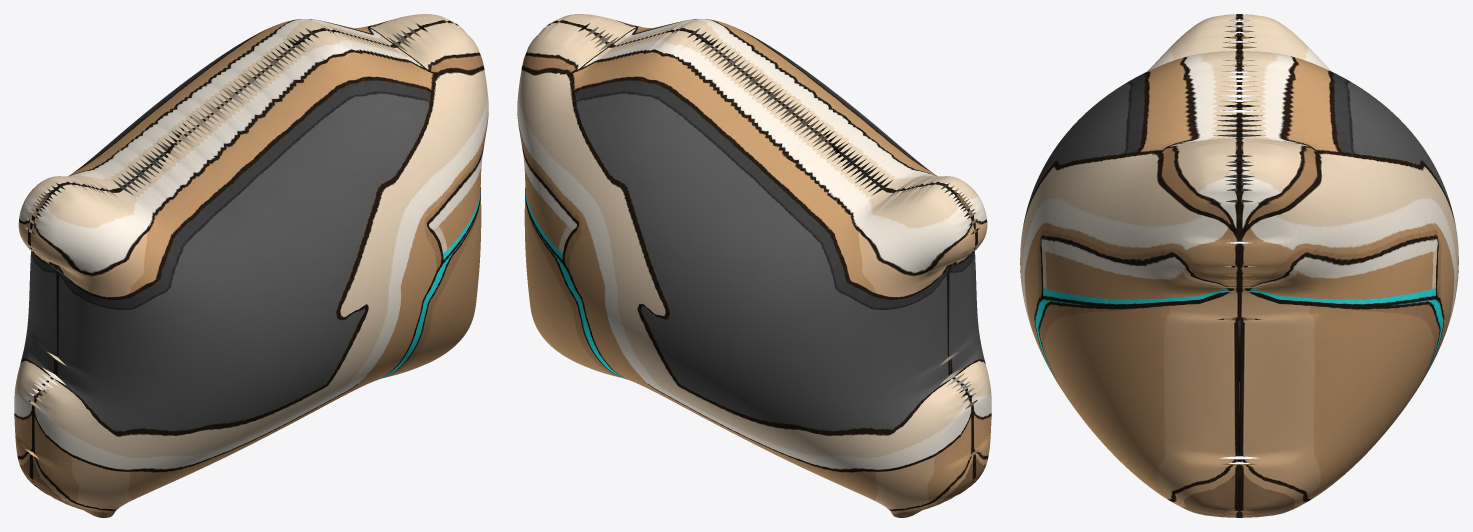
Rendered from return_barrier.glb.
3 renders of one model, left to right at view 1: azimuth 30°, elevation 25°; view 2: azimuth 150°, elevation 25°; view 3: azimuth 270°, elevation 25°, orthographic. The views are drawn at different scales.
Visible parts, largest first — view 1: return_barrier; view 2: return_barrier; view 3: return_barrier.
Boxes of the visible parts, x1=… form: return_barrier: x1=14, y1=14, x2=488, y2=517; return_barrier: x1=517, y1=14, x2=991, y2=517; return_barrier: x1=1020, y1=14, x2=1458, y2=517.
Size of the model in its own units: 0.9889 by 0.8761 by 0.7099.
Materials: 1 (1 with a texture image).
